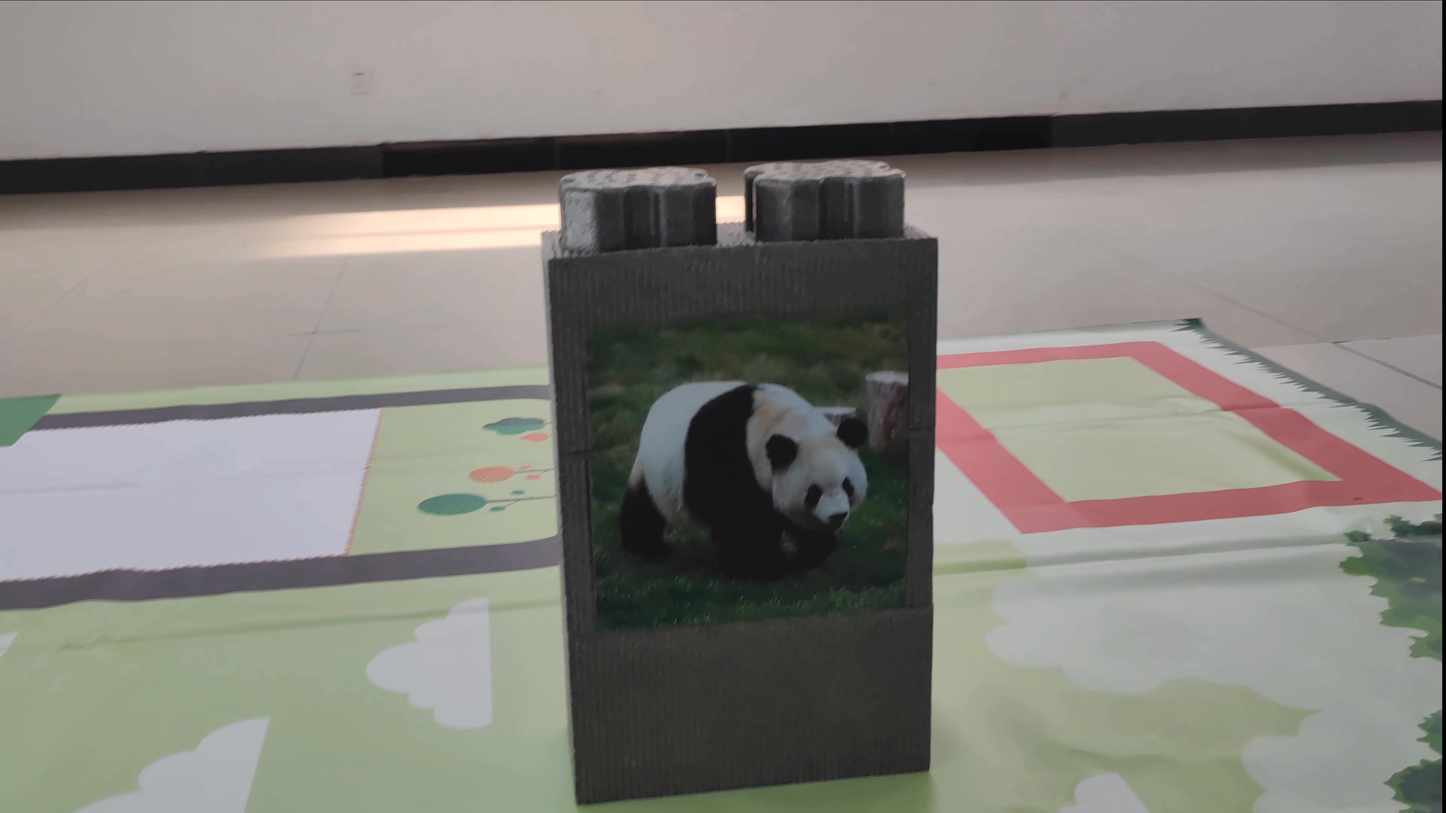panda: (601, 361, 878, 608)
